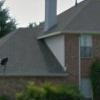Chimney: (39, 1, 62, 26)
